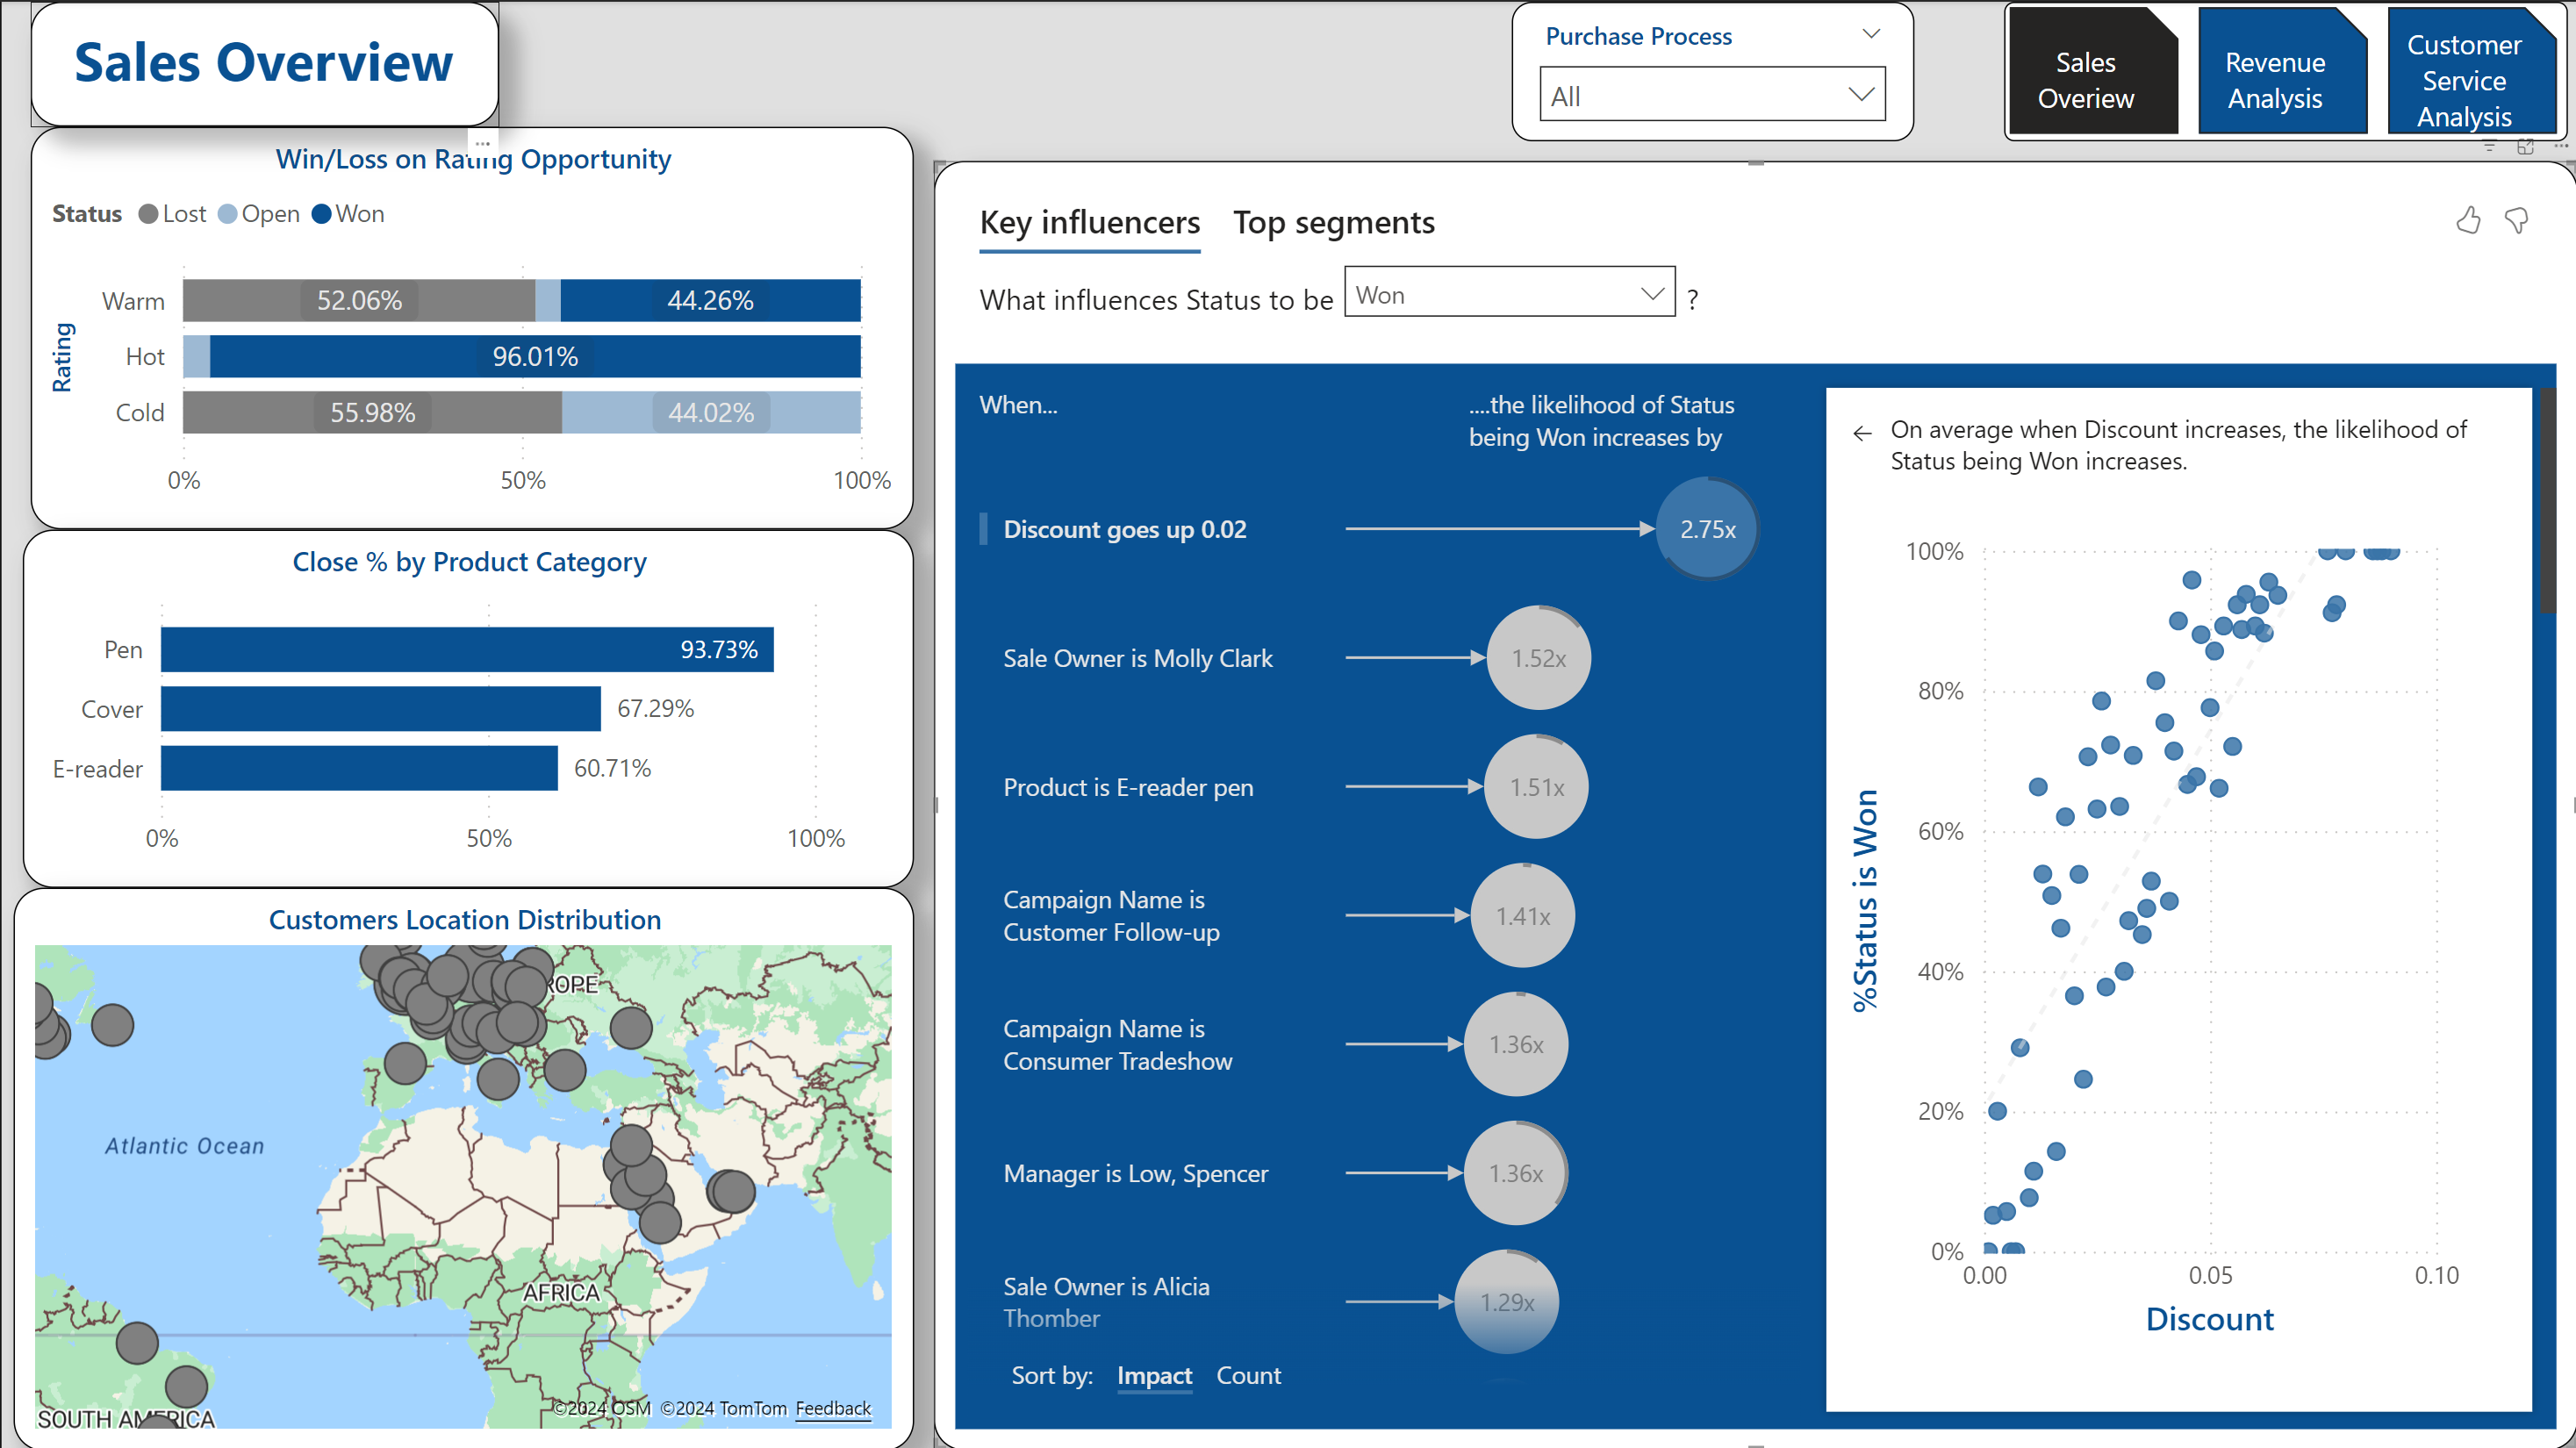

Layout of this report page (visuals, bound fields, positions):
{"tool":"powerbi","page":{"name":"Sales Overiew","canvas":[1280,720],"ordinal":0},"visuals":[{"type":"hundredPercentStackedBarChart","title":"Win/Loss on Rating Opportunity","fields":{"Category":["OpportunityTbl.Rating"],"Y":["OpportunityTbl.OpportunitySeq"],"Series":["OpportunityTbl.Status"]},"box":[14.7,62,438.7,200],"z":0},{"type":"keyDriversVisual","fields":{"Target":["OpportunityTbl.Status"],"ExplainBy":["OpportunityTbl.Purchase Process","OwnerTbl.Owner","Accounts.Industry","ProductTbl.Product","OwnerTbl.Manager","OpportunityTbl.Campaign Name","OpportunityTbl.Discount","OpportunityTbl.Value"]},"box":[462.7,79.2,816.9,640.4],"z":1000},{"type":"barChart","fields":{"Category":["ProductTbl.Product Category"],"Y":["OpportunityTbl.Close %"]},"box":[10.7,262,442.7,178],"z":2000},{"type":"pageNavigator","box":[994.6,0,280.3,69.2],"z":3000},{"type":"textbox","box":[14.6,0,232.3,61.9],"z":4000},{"type":"azureMap","title":"Customers Location Distribution","fields":{"Size":["Accounts.AccountID"],"Category":["Accounts.Postal Code"]},"box":[6,440,447.3,280],"z":5000},{"type":"slicer","fields":{"Values":["OpportunityTbl.Purchase Process"]},"box":[750.3,0,199.7,69.2],"z":6000}]}

Visuals, with their boxes on the page's 1280x720 design canvas (x1, y1, x2, y2). These are canvas units, not pixel positions in the 2576x1448 screenshot, which may show the page scaled, cropped or inside an application window:
"Win/Loss on Rating Opportunity" hundredPercentStackedBarChart: (x1=15, y1=62, x2=453, y2=262)
keyDriversVisual - OpportunityTbl.Status x OpportunityTbl.Purchase Process: (x1=463, y1=79, x2=1280, y2=720)
barChart - ProductTbl.Product Category x OpportunityTbl.Close %: (x1=11, y1=262, x2=453, y2=440)
pageNavigator: (x1=995, y1=0, x2=1275, y2=69)
textbox: (x1=15, y1=0, x2=247, y2=62)
"Customers Location Distribution" azureMap: (x1=6, y1=440, x2=453, y2=720)
slicer - OpportunityTbl.Purchase Process: (x1=750, y1=0, x2=950, y2=69)
